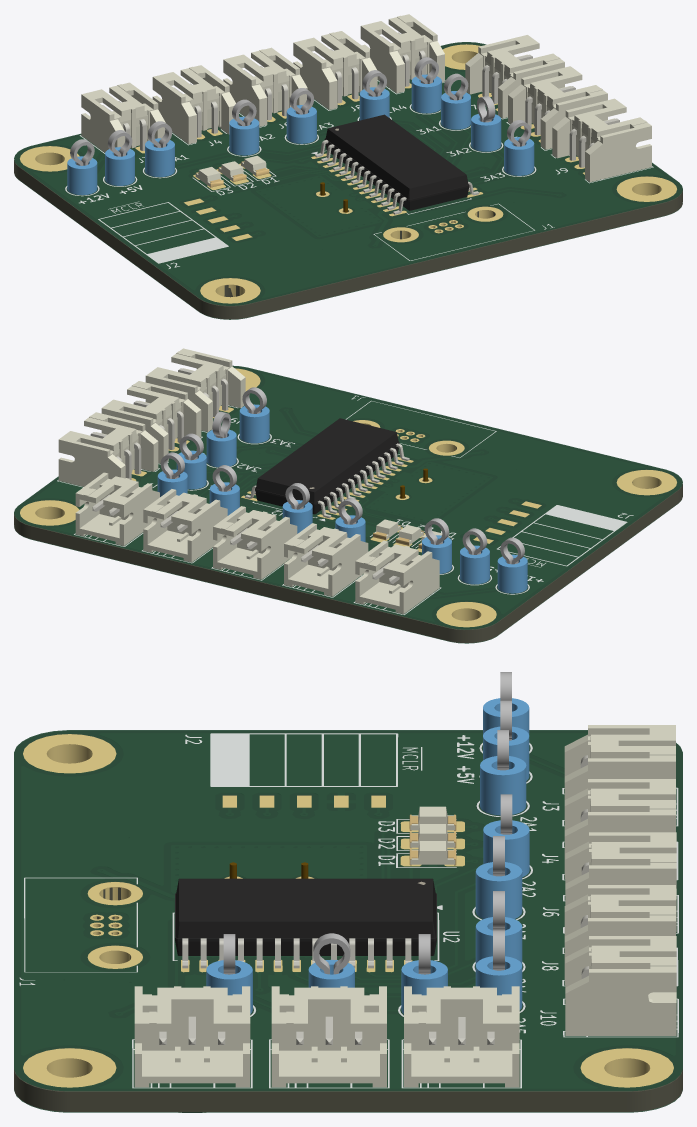
The model's file is injector-pcb.glb.
3 renders of one model, top to bottom at view 1: azimuth 30°, elevation 25°; view 2: azimuth 150°, elevation 25°; view 3: azimuth 270°, elevation 25°, orthographic. The views are drawn at different scales.
Parts seen in each view (by area): view 1: J5, =>[0:1:1:17]; view 2: J5, =>[0:1:1:17]; view 3: J5, =>[0:1:1:17].
Boxes of the visible parts, bbox=[...] form: J5: bbox=[14, 14, 682, 319]; =>[0:1:1:17]: bbox=[14, 42, 682, 319]; J5: bbox=[14, 348, 682, 642]; =>[0:1:1:17]: bbox=[14, 365, 682, 643]; J5: bbox=[14, 672, 682, 1112]; =>[0:1:1:17]: bbox=[14, 730, 682, 1112].
Size of the model in its own units: 0.0584 by 0.0114 by 0.0457.
2 materials, 2 textured.
